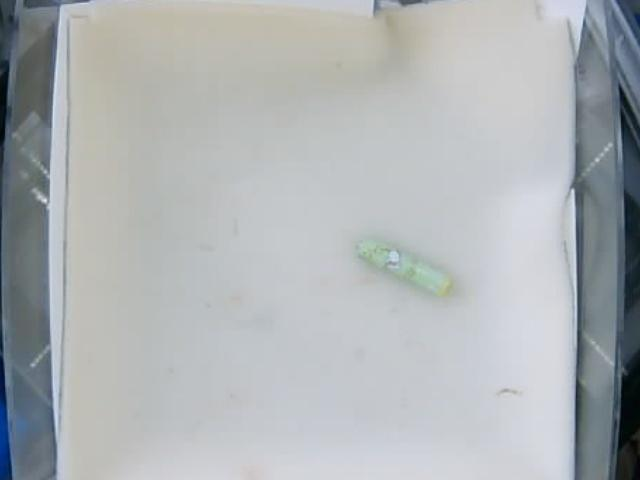Battery: (355, 236, 451, 295)
